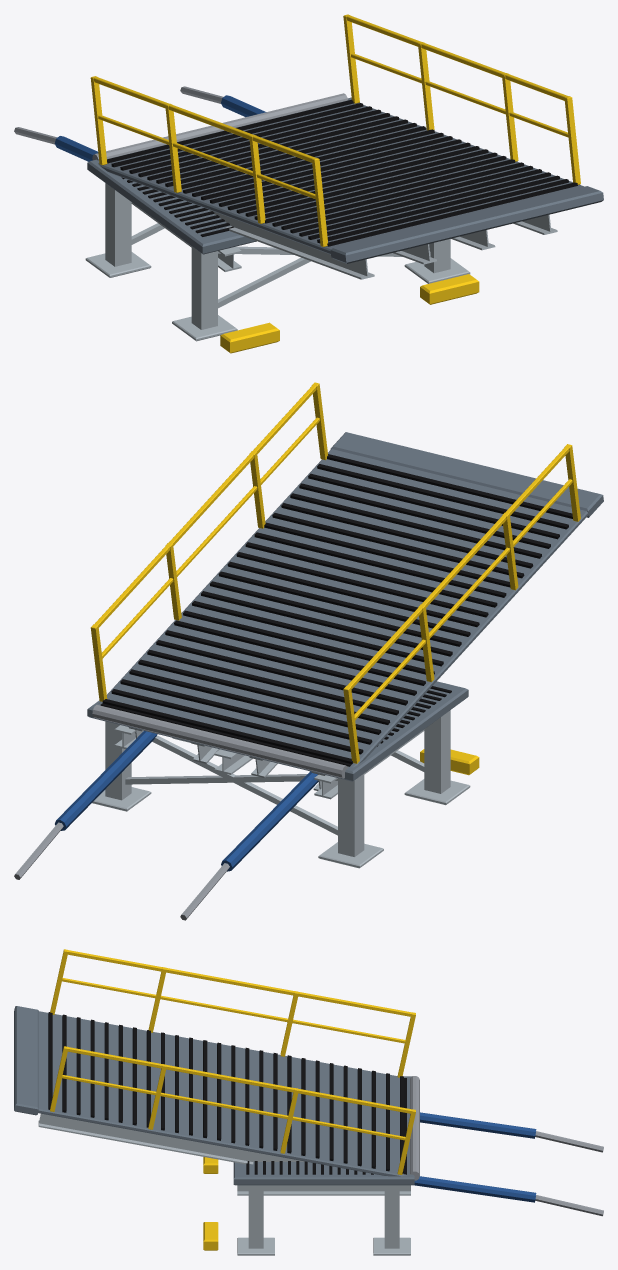
The model's file is HARBOR_11.obj.
3 views of the same model, one above another, from view 1: azimuth 30°, elevation 25°; view 2: azimuth 150°, elevation 25°; view 3: azimuth 270°, elevation 25° (orthographic). The views are drawn at different scales.
Visible parts, largest first — view 1: HARBOR_11__ramp_ribs, HARBOR_11__ramp_plate, HARBOR_11__rail_posts, HARBOR_11__toe_plate, HARBOR_11__legs, HARBOR_11__platform, HARBOR_11__ramp_beams, HARBOR_11__rail_top, HARBOR_11__wheel_stops, HARBOR_11__rail_mid, HARBOR_11__foot, HARBOR_11__hinge (+5 smaller); view 2: HARBOR_11__ramp_plate, HARBOR_11__ramp_ribs, HARBOR_11__legs, HARBOR_11__toe_plate, HARBOR_11__rail_posts, HARBOR_11__rail_top, HARBOR_11__hinge, HARBOR_11__rams, HARBOR_11__rail_mid, HARBOR_11__leg_brace, HARBOR_11__platform, HARBOR_11__foot (+4 smaller); view 3: HARBOR_11__ramp_plate, HARBOR_11__ramp_ribs, HARBOR_11__rail_top, HARBOR_11__ramp_beams, HARBOR_11__platform, HARBOR_11__rail_mid, HARBOR_11__rail_posts, HARBOR_11__toe_plate, HARBOR_11__rams, HARBOR_11__legs, HARBOR_11__platform_beams, HARBOR_11__foot (+4 smaller).
Boxes of the visible parts, x1,y1,x2,y2 form: HARBOR_11__ramp_ribs: [107, 99, 577, 246]; HARBOR_11__ramp_plate: [98, 103, 583, 254]; HARBOR_11__rail_posts: [90, 14, 580, 246]; HARBOR_11__toe_plate: [330, 186, 603, 263]; HARBOR_11__legs: [105, 183, 450, 329]; HARBOR_11__platform: [87, 97, 359, 254]; HARBOR_11__ramp_beams: [209, 209, 557, 279]; HARBOR_11__rail_top: [92, 14, 570, 162]; HARBOR_11__wheel_stops: [220, 274, 479, 353]; HARBOR_11__rail_mid: [98, 53, 575, 200]; HARBOR_11__foot: [85, 252, 470, 341]; HARBOR_11__hinge: [92, 93, 347, 160]; HARBOR_11__ramp_plate: [98, 449, 588, 767]; HARBOR_11__ramp_ribs: [102, 454, 572, 763]; HARBOR_11__legs: [105, 710, 450, 856]; HARBOR_11__toe_plate: [330, 432, 603, 517]; HARBOR_11__rail_posts: [90, 382, 580, 763]; HARBOR_11__rail_top: [91, 382, 570, 692]; HARBOR_11__hinge: [92, 705, 347, 778]; HARBOR_11__rams: [55, 731, 318, 871]; HARBOR_11__rail_mid: [95, 417, 572, 724]; HARBOR_11__leg_brace: [125, 730, 424, 835]; HARBOR_11__platform: [87, 681, 468, 781]; HARBOR_11__foot: [92, 737, 470, 868]; HARBOR_11__ramp_plate: [37, 1011, 406, 1176]; HARBOR_11__ramp_ribs: [48, 1012, 403, 1173]; HARBOR_11__rail_top: [64, 949, 415, 1113]; HARBOR_11__ramp_beams: [38, 1113, 304, 1164]; HARBOR_11__platform: [233, 1076, 414, 1185]; HARBOR_11__rail_mid: [57, 977, 405, 1140]; HARBOR_11__rail_posts: [50, 949, 415, 1174]; HARBOR_11__toe_plate: [14, 1006, 38, 1115]; HARBOR_11__rams: [414, 1112, 536, 1202]; HARBOR_11__legs: [248, 1185, 399, 1248]; HARBOR_11__platform_beams: [237, 1185, 410, 1195]; HARBOR_11__foot: [237, 1237, 410, 1255].
Size of the model in its own units: 3.3 by 3 by 7.82.
